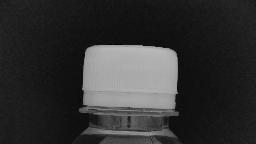Good Cap: (76, 40, 188, 122)
